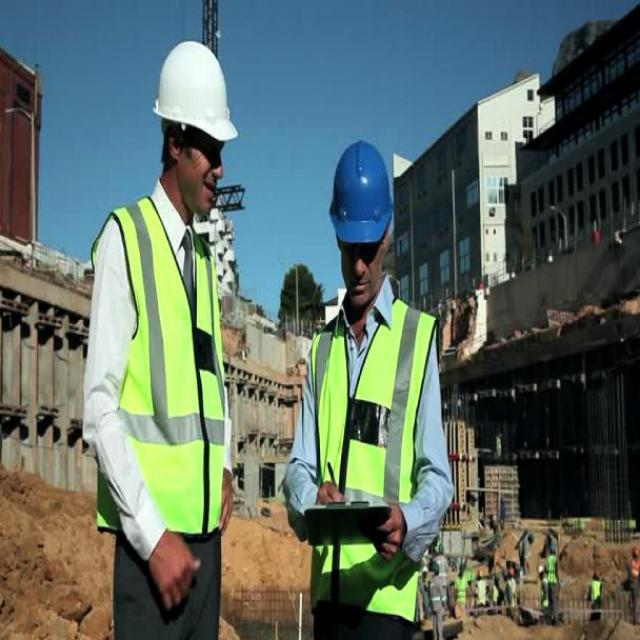helmet: (298, 104, 397, 299), (150, 17, 239, 232)
vest: (109, 217, 243, 528), (311, 291, 418, 508)
